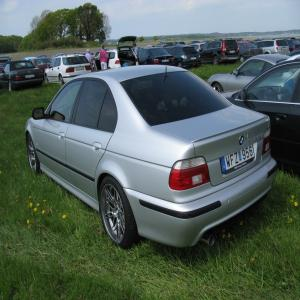Vehicle-registration-plate: (222, 145, 255, 174)
